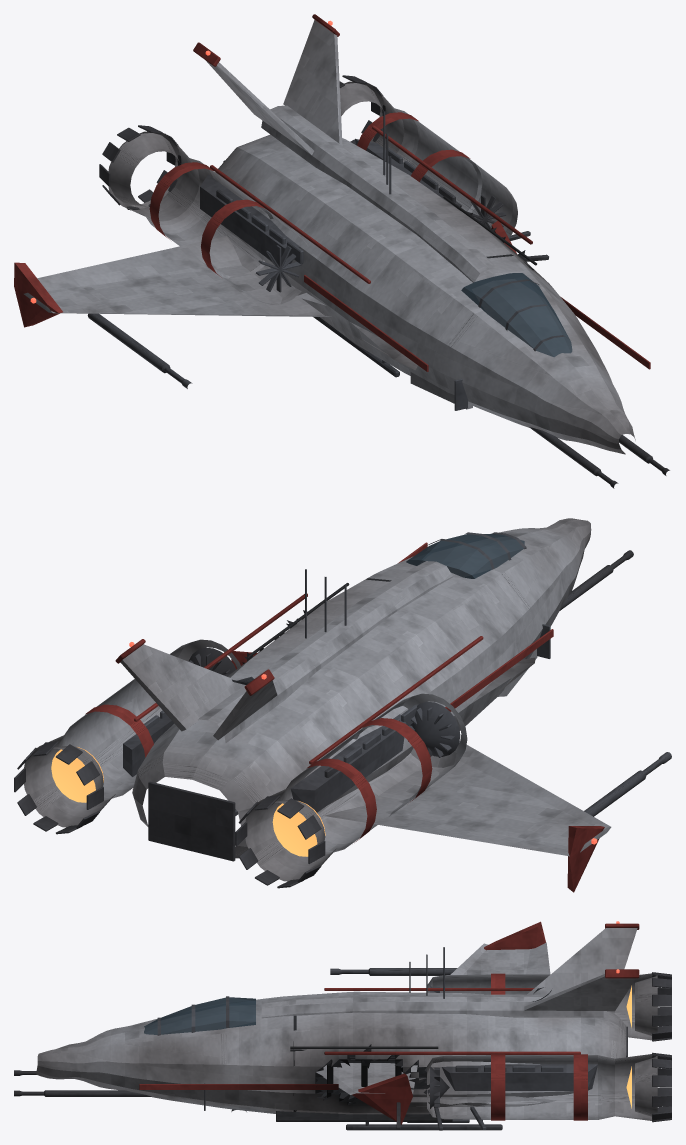
The model's file is crashed_ship.glb.
3 views of the same model, one above another, from view 1: azimuth 30°, elevation 25°; view 2: azimuth 150°, elevation 25°; view 3: azimuth 270°, elevation 25° (orthographic). The views are drawn at different scales.
Visible parts, largest first — view 1: Hull, WingR; view 2: Hull, WingR; view 3: Hull, WingR.
Boxes of the visible parts, x1,y1,x2,y2 form: Hull: [14, 14, 669, 488]; WingR: [295, 221, 517, 370]; Hull: [14, 518, 671, 892]; WingR: [231, 651, 535, 703]; Hull: [14, 921, 671, 1130]; WingR: [316, 1063, 417, 1124].
Bounding box in the file's own units: 15.11 × 6.59 × 23.1.
7 materials, 4 textured.
